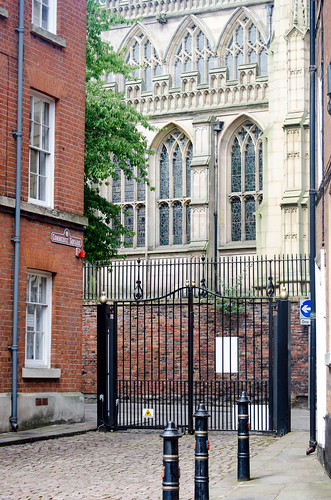building: (94, 1, 301, 290), (1, 6, 94, 432)
gate: (98, 295, 300, 442)
street: (1, 429, 279, 500)
